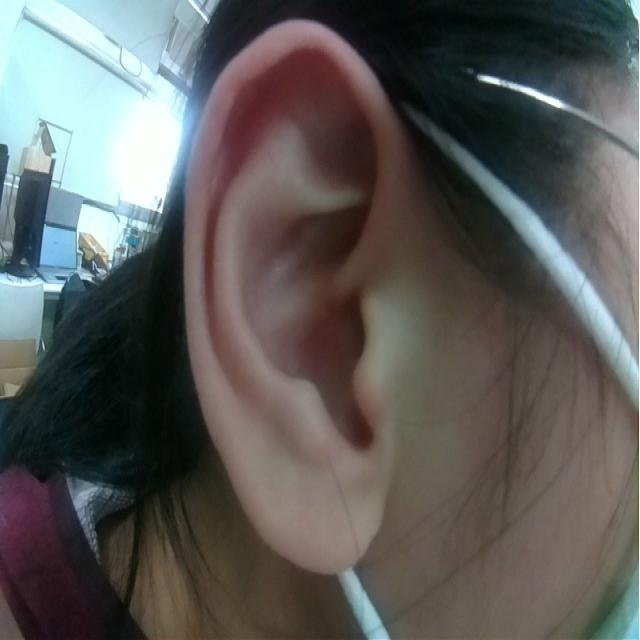no-earmuff: (182, 17, 407, 572)
